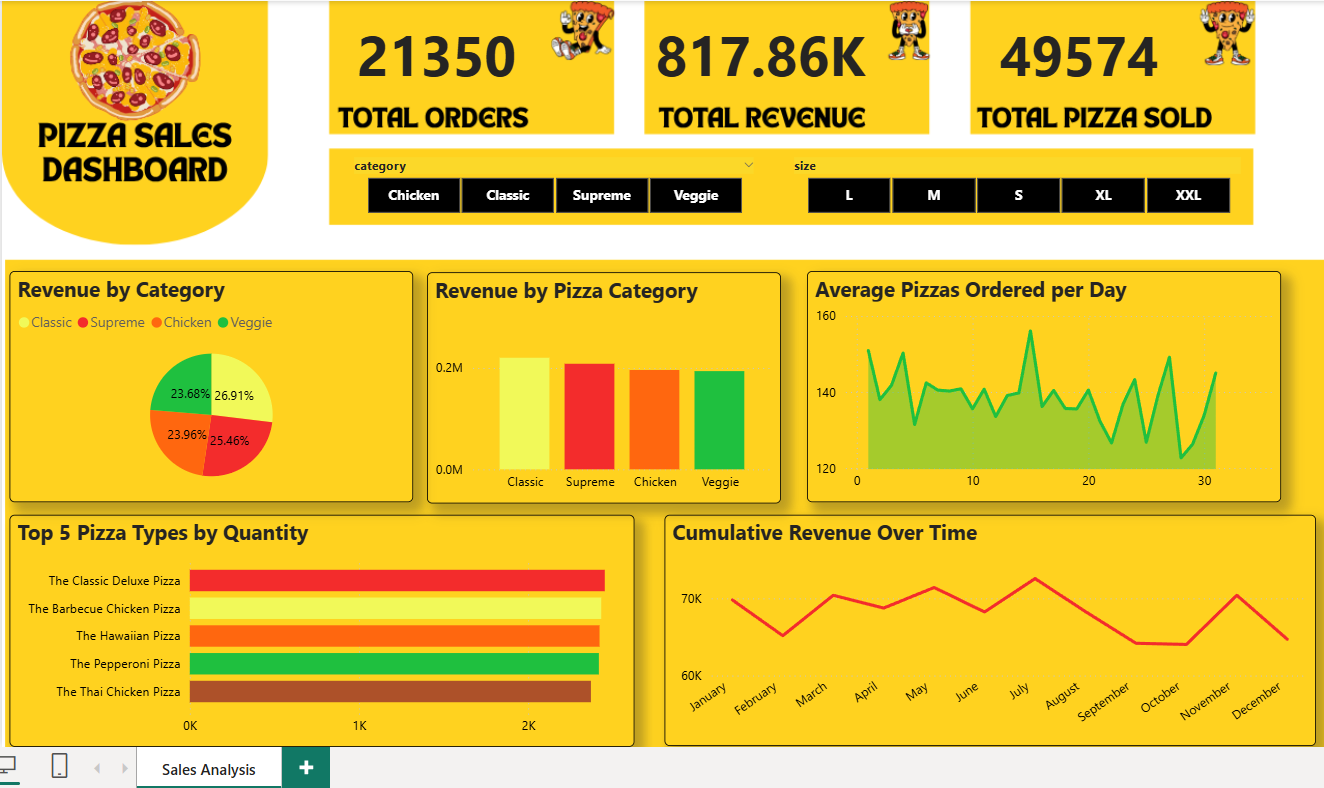

What the dashboard file says about the page in this screenshot:
{"tool":"powerbi","page":{"name":"Sales Analysis","canvas":[1280,720],"ordinal":0},"visuals":[{"type":"card","fields":{"Values":["order_details.total orders"]},"box":[307.6,0,224.4,98.9],"z":0},{"type":"card","fields":{"Values":["order_details.total revenue"]},"box":[620.1,0,224.4,98.9],"z":1000},{"type":"card","fields":{"Values":["order_details.total pizza sold"]},"box":[927.8,0,224.4,98.9],"z":2000},{"type":"slicer","fields":{"Values":["pizza_types.category"]},"box":[326.9,146,411.4,65.1],"z":3000},{"type":"slicer","fields":{"Values":["pizzas.size"]},"box":[751.6,146,457.2,65.1],"z":4000},{"type":"pieChart","title":"Revenue by Category","fields":{"Category":["pizza_types.category"],"Y":["order_details.total revenue"]},"box":[7.2,260.6,389.7,223.2],"z":5000},{"type":"lineChart","title":"Cumulative Revenue Over Time","fields":{"Category":["orders.order_date.Variation.Date Hierarchy.Month"],"Y":["order_details.Cumulative Revenue"]},"box":[639.4,495.8,628.6,223.2],"z":6000},{"type":"barChart","title":"Top 5 Pizza Types by Quantity","fields":{"Category":["pizza_types.name"],"Y":["pizza_types.Total Quantity"]},"box":[7.2,495.8,603.2,224.4],"z":7000},{"type":"columnChart","title":"Revenue by Pizza Category","fields":{"Category":["pizza_types.category"],"Y":["order_details.total revenue"]},"box":[410.2,261.8,341.4,223.2],"z":8000},{"type":"areaChart","title":"Average Pizzas Ordered per Day ","fields":{"Category":["orders.order_date.Variation.Date Hierarchy.Day"],"Y":["order_details.Average Pizzas per Day"]},"box":[776.9,260.6,457.2,223.2],"z":9000}]}

Visuals, with their boxes on the page's 1280x720 design canvas (x1, y1, x2, y2). These are canvas units, not pixel positions in the 1324x788 screenshot, which may show the page scaled, cropped or inside an application window:
card - order_details.total orders: bbox=[308, 0, 532, 99]
card - order_details.total revenue: bbox=[620, 0, 844, 99]
card - order_details.total pizza sold: bbox=[928, 0, 1152, 99]
slicer - pizza_types.category: bbox=[327, 146, 738, 211]
slicer - pizzas.size: bbox=[752, 146, 1209, 211]
"Revenue by Category" pieChart: bbox=[7, 261, 397, 484]
"Cumulative Revenue Over Time" lineChart: bbox=[639, 496, 1268, 719]
"Top 5 Pizza Types by Quantity" barChart: bbox=[7, 496, 610, 720]
"Revenue by Pizza Category" columnChart: bbox=[410, 262, 752, 485]
"Average Pizzas Ordered per Day " areaChart: bbox=[777, 261, 1234, 484]
